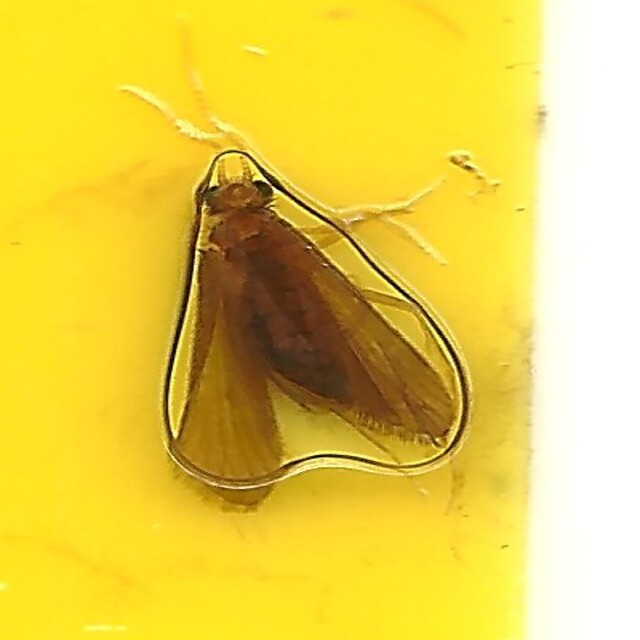Trichoptera: (160, 122, 480, 518)
